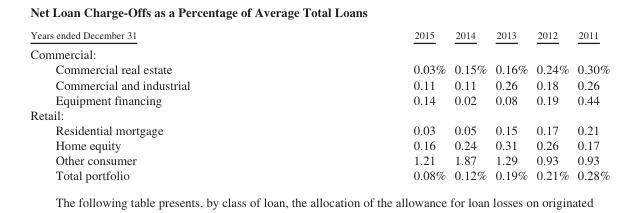table: (29, 28, 609, 182)
table column: (29, 28, 301, 182), (301, 28, 449, 182), (449, 28, 490, 182), (490, 28, 531, 182), (531, 28, 572, 182), (572, 28, 609, 182)
table column header: (29, 28, 609, 43)
table projected row header: (29, 43, 609, 61), (29, 106, 609, 122)
table row: (29, 43, 609, 61), (29, 106, 609, 122), (29, 28, 609, 43), (29, 61, 609, 76), (29, 76, 609, 91), (29, 91, 609, 106), (29, 122, 609, 137), (29, 137, 609, 152), (29, 152, 609, 167), (29, 167, 609, 182)
